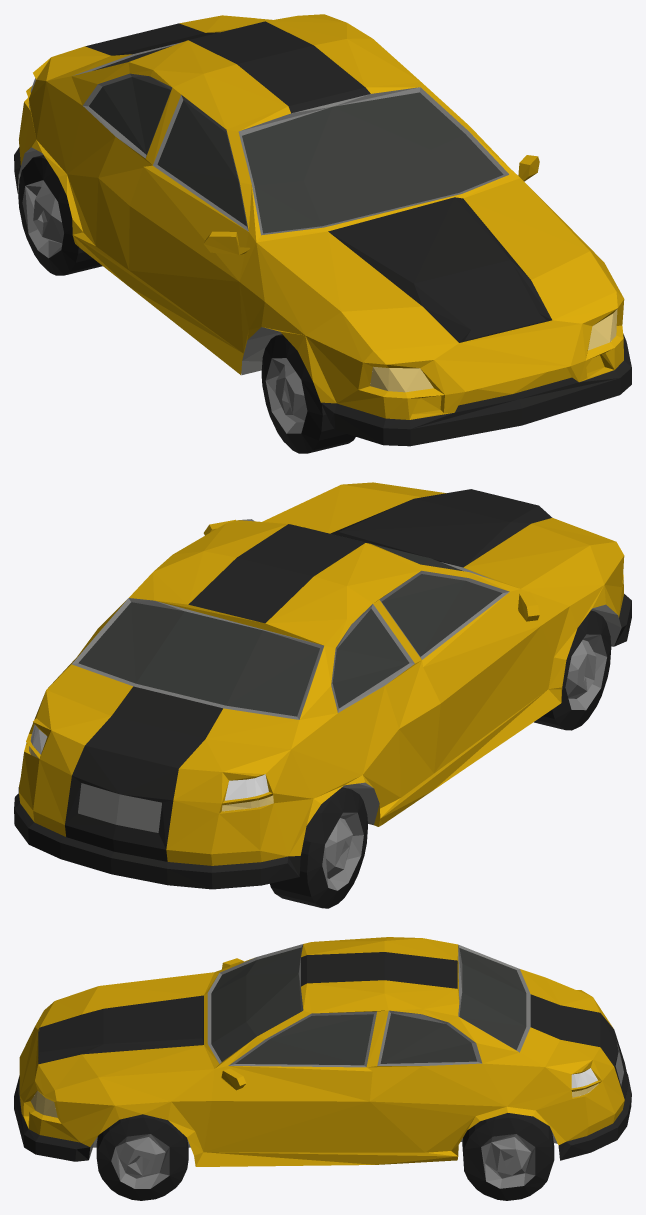
The model's file is sports-car-b.glb.
3 renders of one model, top to bottom at view 1: azimuth 30°, elevation 25°; view 2: azimuth 150°, elevation 25°; view 3: azimuth 270°, elevation 25°, orthographic. The views are drawn at different scales.
Parts seen in each view (by area): view 1: BackWheels, Sports; view 2: BackWheels, Sports; view 3: BackWheels, Sports.
Boxes of the visible parts, bbox=[...] form: BackWheels: bbox=[14, 14, 631, 453]; Sports: bbox=[28, 78, 617, 392]; BackWheels: bbox=[14, 482, 631, 908]; Sports: bbox=[29, 724, 273, 811]; BackWheels: bbox=[14, 937, 631, 1200]; Sports: bbox=[30, 1068, 598, 1117].
Size of the model in its own units: 2.67 by 1.84 by 5.66.
2 materials, 2 textured.
